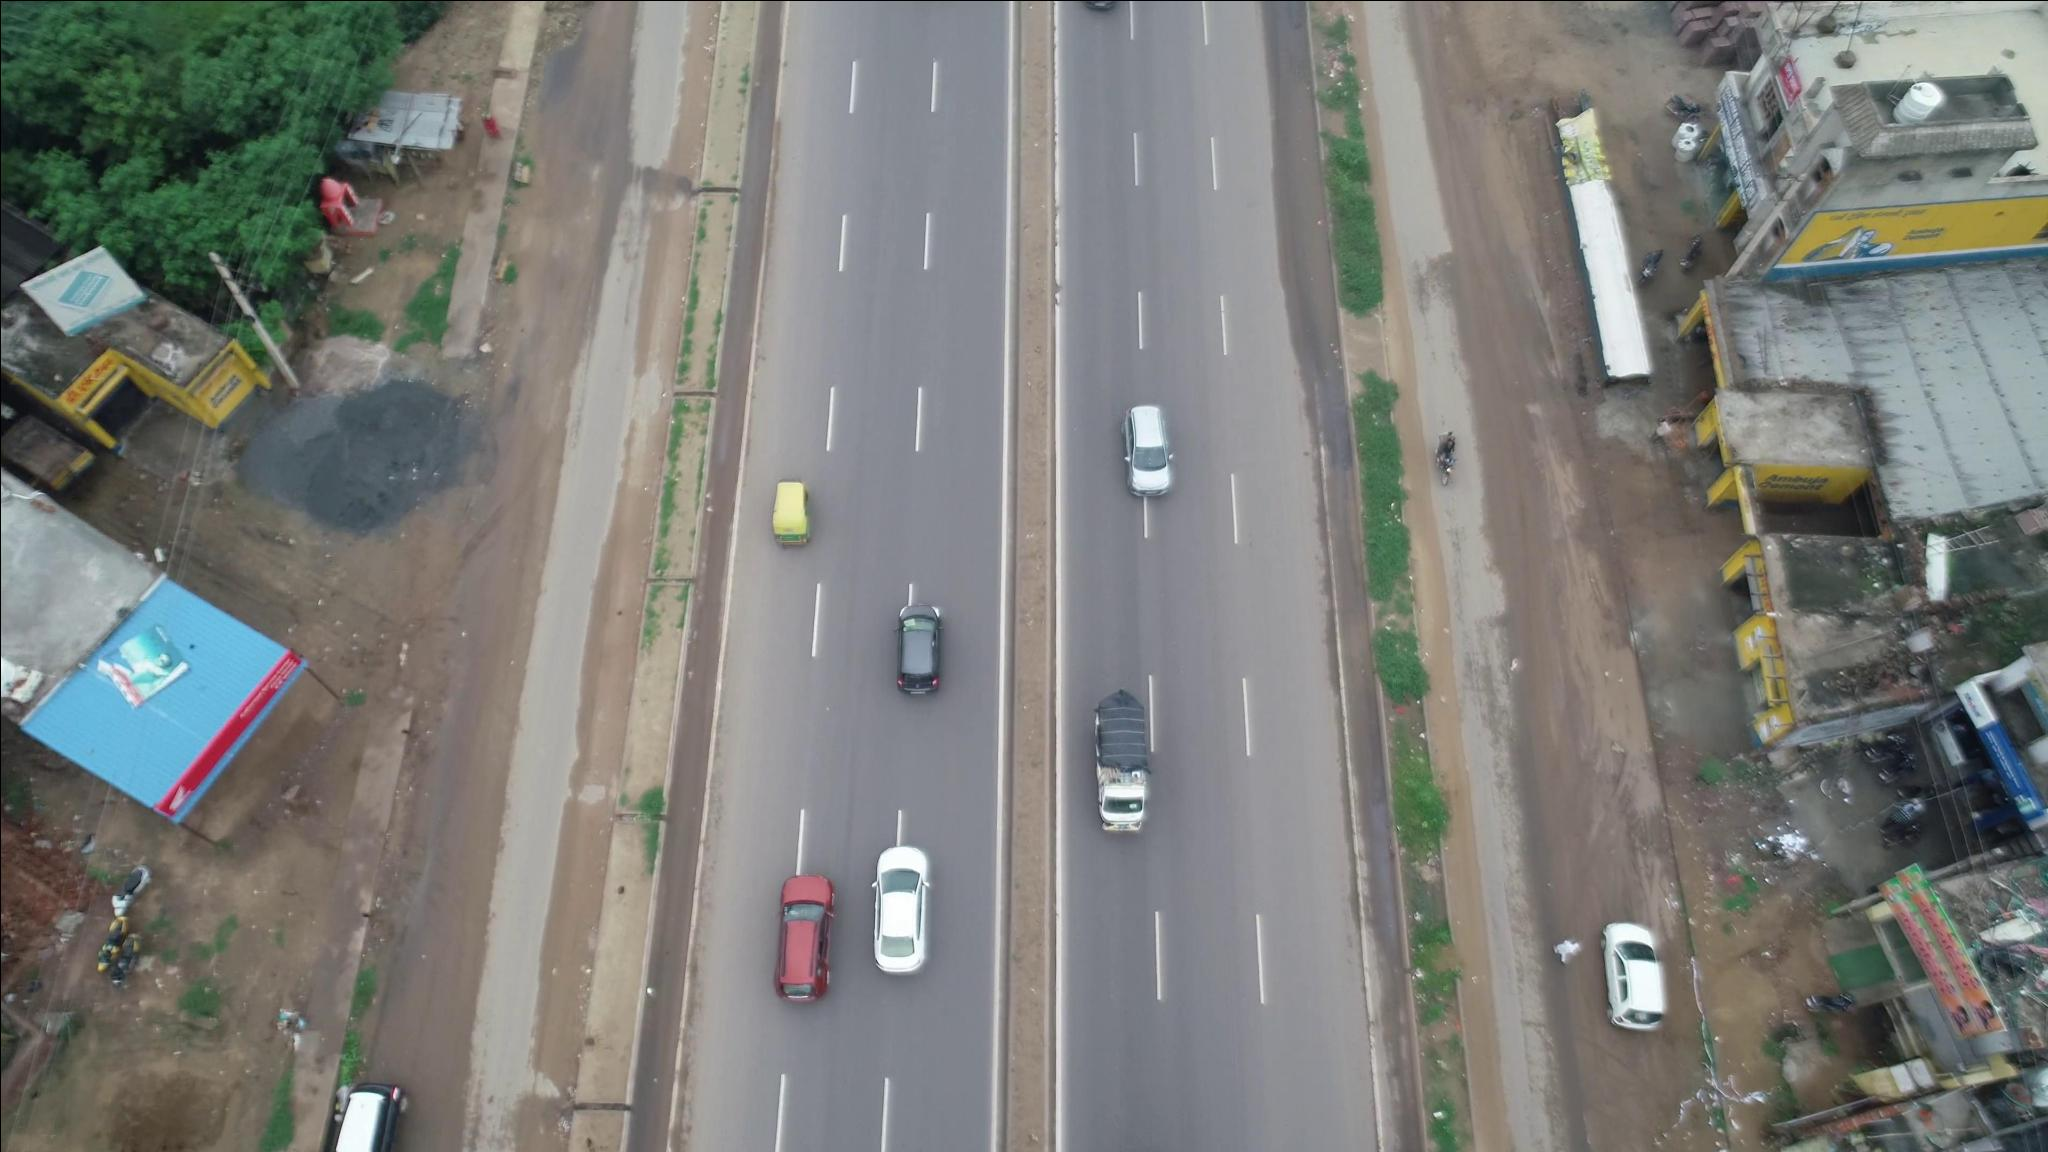Muddy_road: (1483, 475, 1627, 824), (551, 497, 644, 775), (519, 803, 601, 1024)
